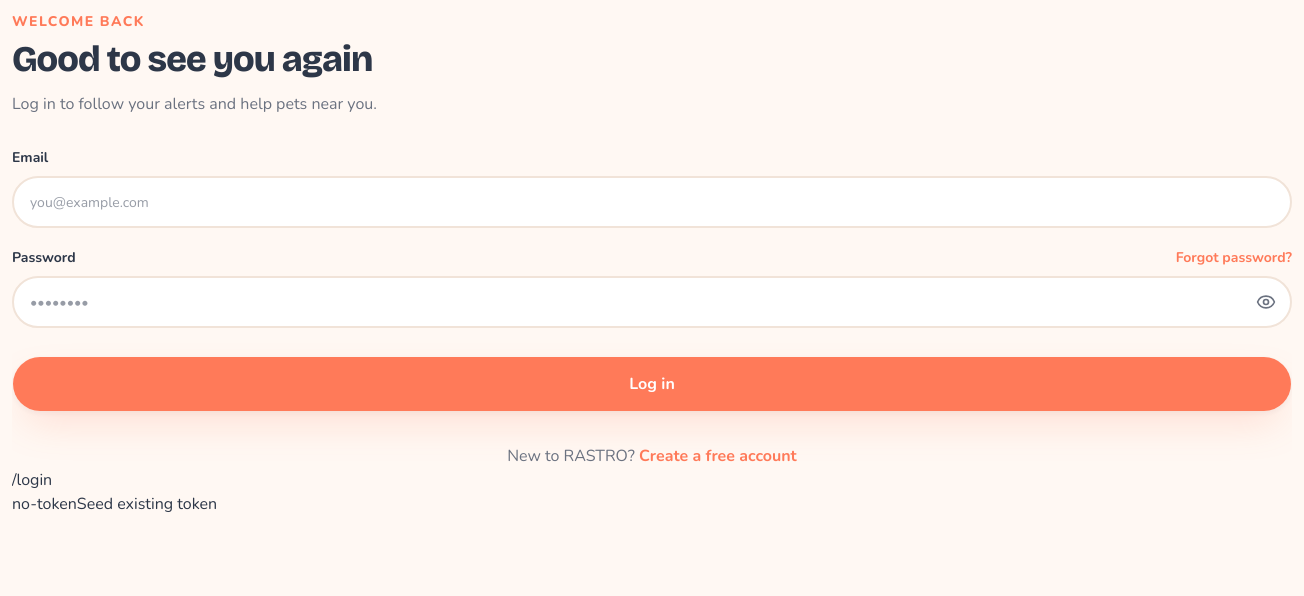
Test: LoginForm › shows a safe accessible error for failed login
Type "person@example.com" into the field labelled "Email" at point(652, 202), box [12,176,1292,228]
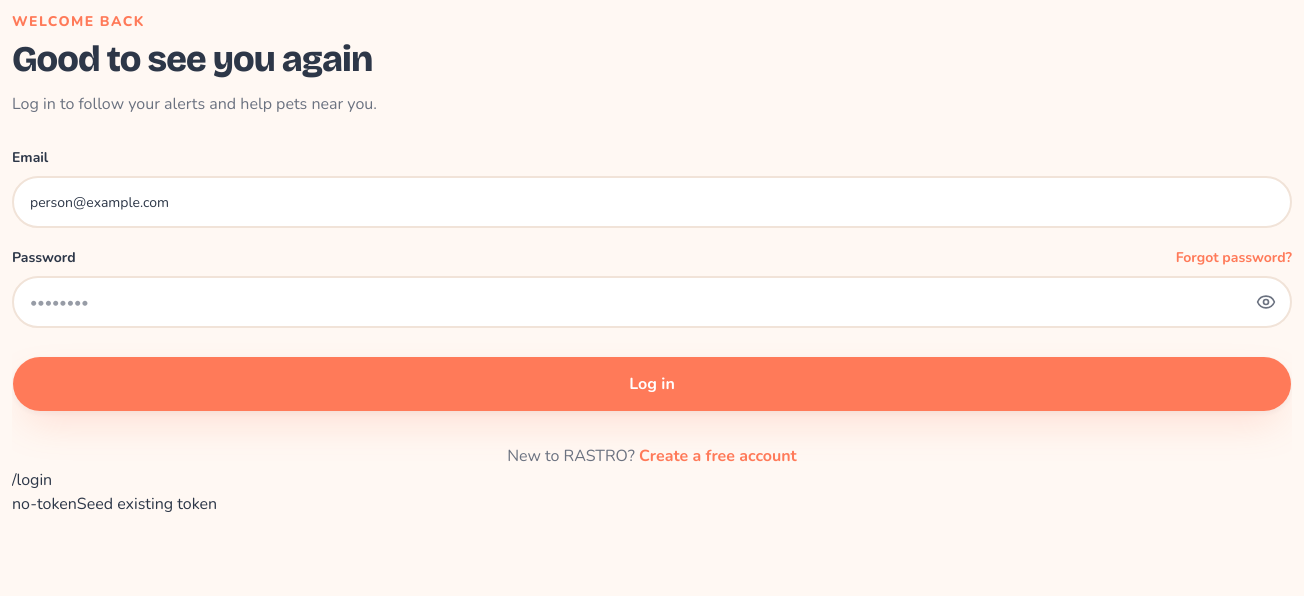
Type "password" into the password field labelled "Password" at point(652, 302), box [12,276,1292,328]
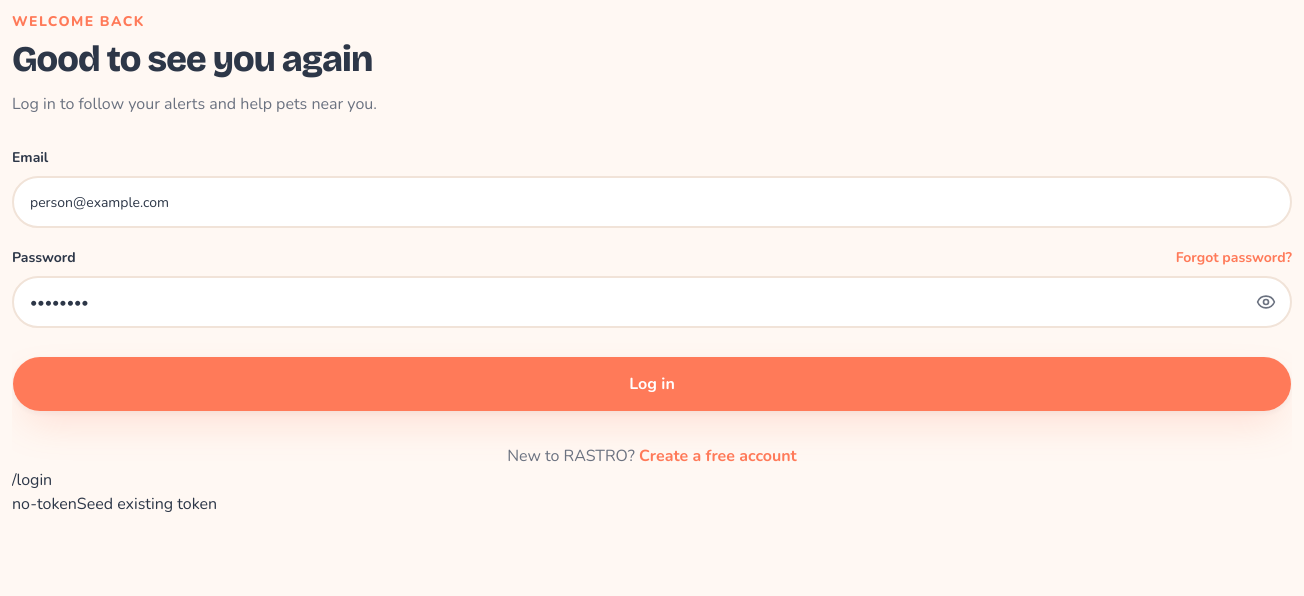
Submit the form, box [12,148,1292,412]
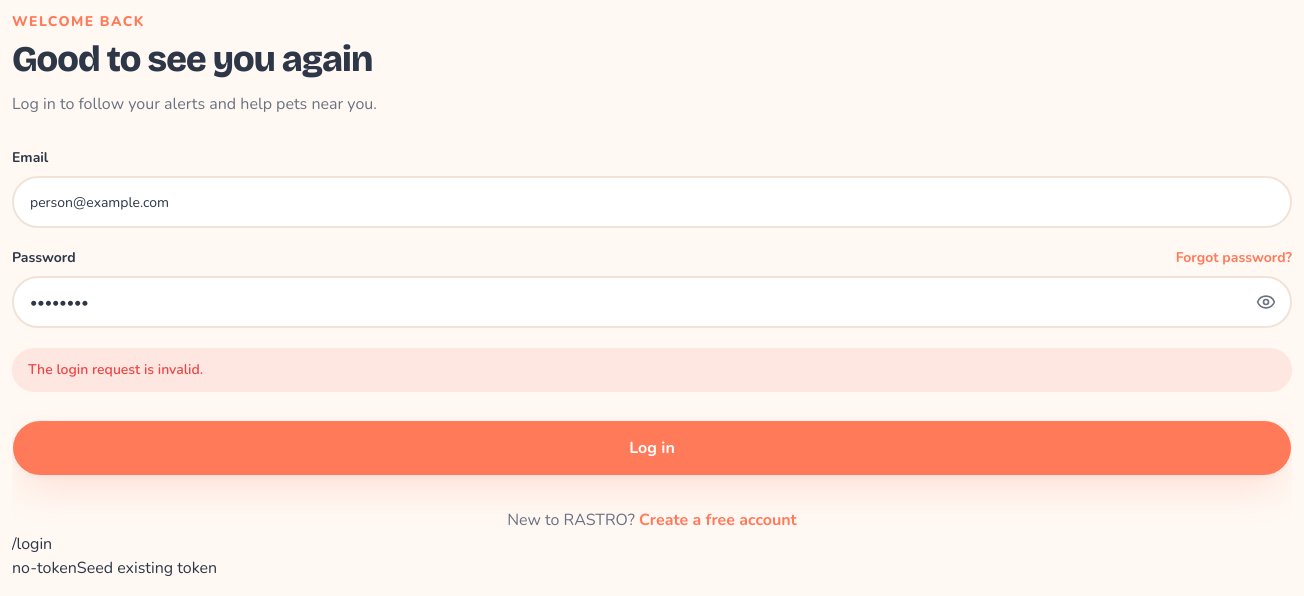
Expected: the text with test id "auth-state" reads "no-token", [12,557,77,579]
Result: the message reads "The login request is invalid." at [28,360,203,379]
